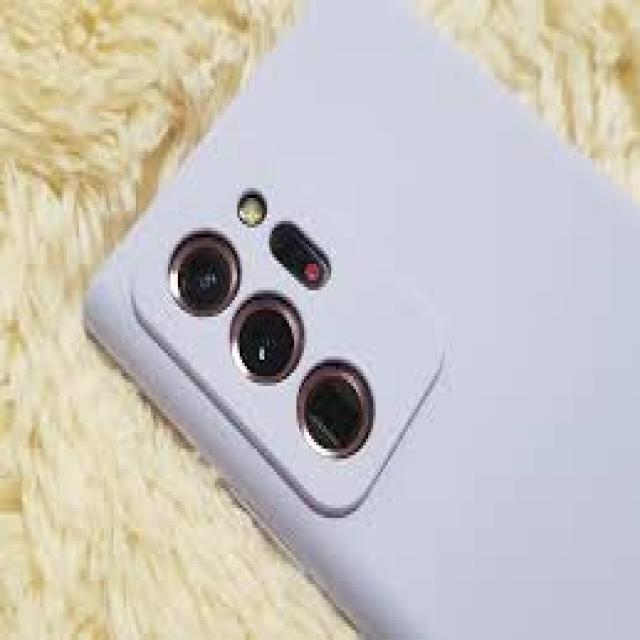lens: (143, 164, 441, 495)
phone: (80, 0, 640, 640)
